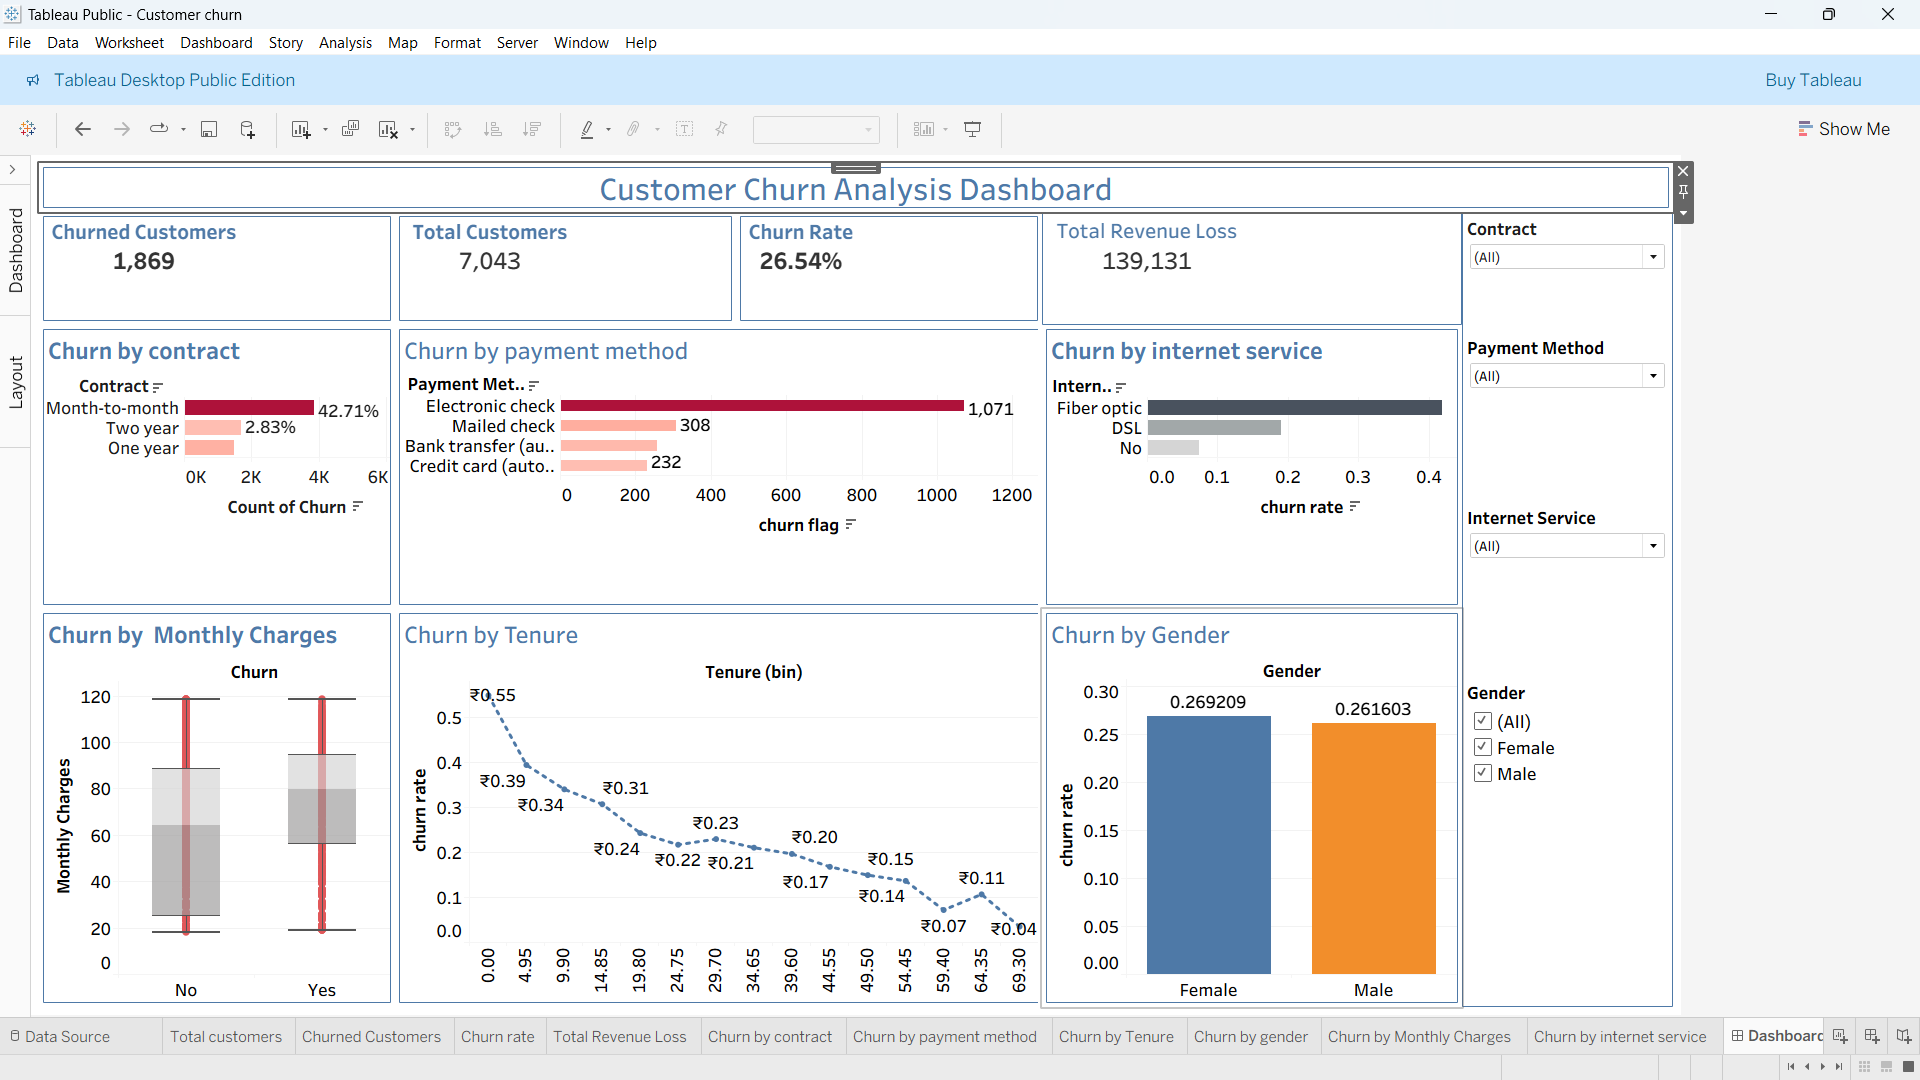

Layout of this report page (visuals, bound fields, positions):
{"tool":"tableau","page":{"name":"Dashboard 1","canvas":[1000,1000],"units":"permille","ordinal":0},"visuals":[{"type":"title","box":[4.9,9.3,990.3,57]},{"type":"worksheet","title":"Churned Customers","mark":"Automatic","box":[4.9,66.3,215.6,131.4]},{"type":"worksheet","title":"Total customers","mark":"Automatic","box":[220.4,66.3,206.8,131.4]},{"type":"worksheet","title":"Churn rate","mark":"Automatic","box":[427.3,66.3,185.6,131.4]},{"type":"worksheet","title":"Total Revenue Loss","mark":"Automatic","box":[613.5,67.4,253.2,102.3]},{"type":"filter","title":"Churn by contract","param":"[federated.05ucnhr1x1ybgk1gi0qcc08oeaax].[none:Contract:nk]","box":[867.9,67.4,126.7,138.4]},{"type":"worksheet","title":"Churn by contract","mark":"Automatic","rows":["Contract"],"cols":["Churn"],"box":[4.9,197.7,215.6,330.8]},{"type":"worksheet","title":"Churn by payment method","mark":"Bar","rows":["PaymentMethod"],"cols":["Calculation_590534514707656704"],"box":[220.4,197.7,392.4,330.8]},{"type":"worksheet","title":"Churn by internet service","mark":"Bar","rows":["InternetService"],"cols":["Calculation_590534514708226049"],"box":[612.9,197.7,254.4,330.2]},{"type":"filter","title":"Churn by payment method","param":"[federated.05ucnhr1x1ybgk1gi0qcc08oeaax].[none:PaymentMethod:nk]","box":[867.9,205.8,126.7,197.7]},{"type":"filter","title":"Churn by internet service","param":"[federated.05ucnhr1x1ybgk1gi0qcc08oeaax].[none:InternetService:nk]","box":[867.9,403.5,126.7,203.5]},{"type":"worksheet","title":"Churn by gender","mark":"Bar","rows":["Calculation_590534514708226049"],"cols":["gender"],"box":[612.9,527.9,254.4,462.8]},{"type":"worksheet","title":"Churn by Monthly Charges","mark":"Circle","rows":["MonthlyCharges"],"cols":["Churn"],"box":[4.9,528.5,215.6,462.2]},{"type":"worksheet","title":"Churn by Tenure","mark":"Line","rows":["Calculation_590534514708226049"],"cols":["Tenure (bin)"],"box":[220.4,528.5,392.4,462.2]},{"type":"filter","title":"Churn by gender","param":"[federated.05ucnhr1x1ybgk1gi0qcc08oeaax].[none:gender:nk]","box":[867.9,607,126.7,200]}]}

Visuals, with their boxes on the dashboard's canvas, which has no fixed pixel size, in thousandths of its width and height (x1, y1, x2, y2). These are canvas units, not pixel positions in the 1920x1080 screenshot, which may show the page scaled, cropped or inside an application window:
title: (5, 9, 995, 66)
"Churned Customers" worksheet: (5, 66, 220, 198)
"Total customers" worksheet: (220, 66, 427, 198)
"Churn rate" worksheet: (427, 66, 613, 198)
"Total Revenue Loss" worksheet: (614, 67, 867, 170)
"Churn by contract" filter: (868, 67, 995, 206)
"Churn by contract" worksheet: (5, 198, 220, 528)
"Churn by payment method" worksheet (Bar marks): (220, 198, 613, 528)
"Churn by internet service" worksheet (Bar marks): (613, 198, 867, 528)
"Churn by payment method" filter: (868, 206, 995, 404)
"Churn by internet service" filter: (868, 404, 995, 607)
"Churn by gender" worksheet (Bar marks): (613, 528, 867, 991)
"Churn by Monthly Charges" worksheet (Circle marks): (5, 528, 220, 991)
"Churn by Tenure" worksheet (Line marks): (220, 528, 613, 991)
"Churn by gender" filter: (868, 607, 995, 807)
